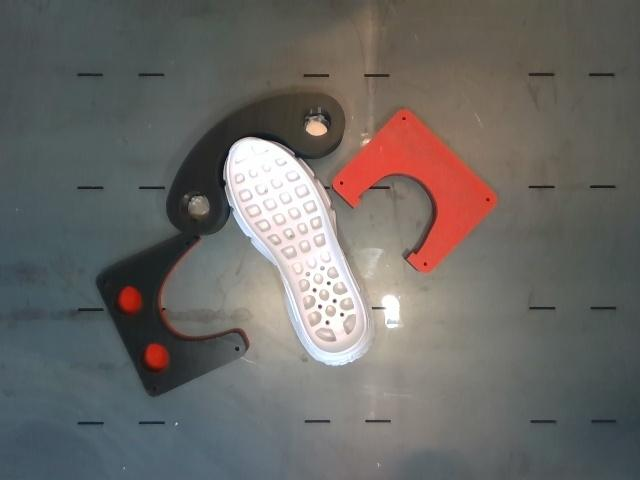shoes: (228, 139, 365, 354)
